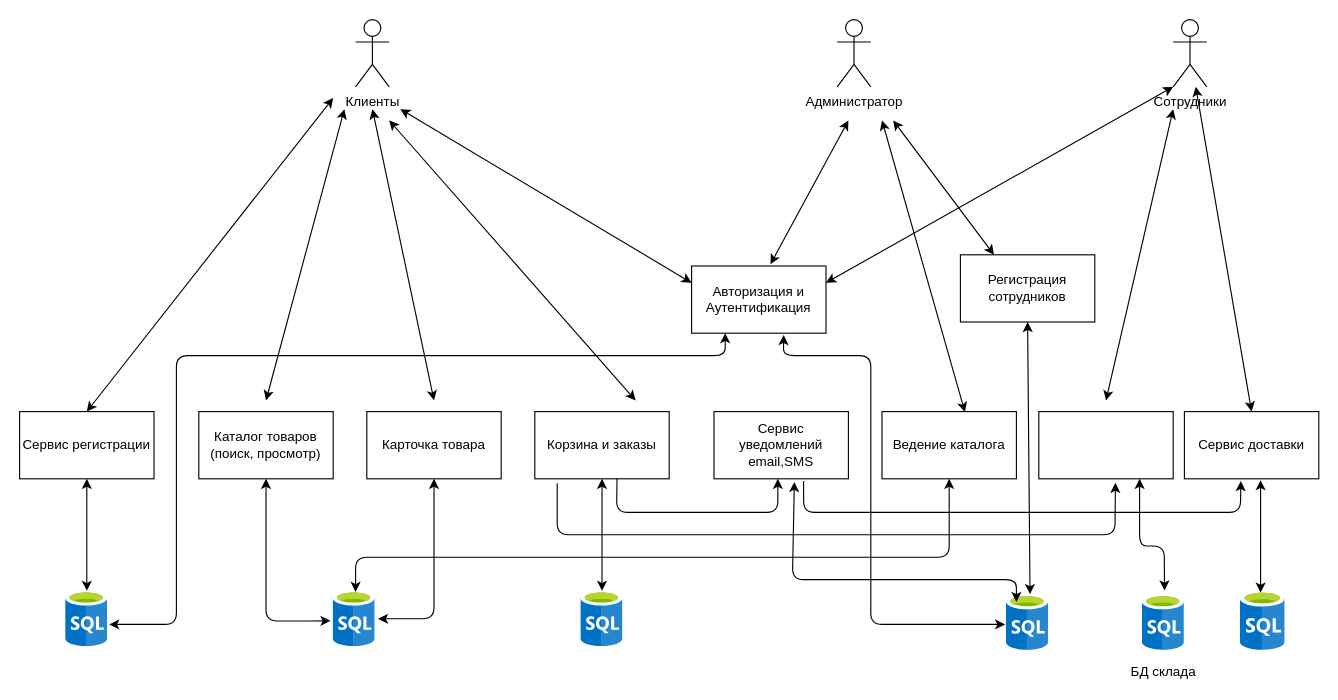
Image size: 1338x700. Some labels were removed from this diagram. Each missing label, with the centre of its shape:
"БД доставки" goes at point (1262, 620).
"БД заказов" goes at point (601, 618).
"БД каталога товаров" goes at point (354, 618).
"БД клиентов" goes at point (86, 618).
"БД сотрудников" goes at point (1027, 622).
"Управление складом" goes at point (1105, 444).
